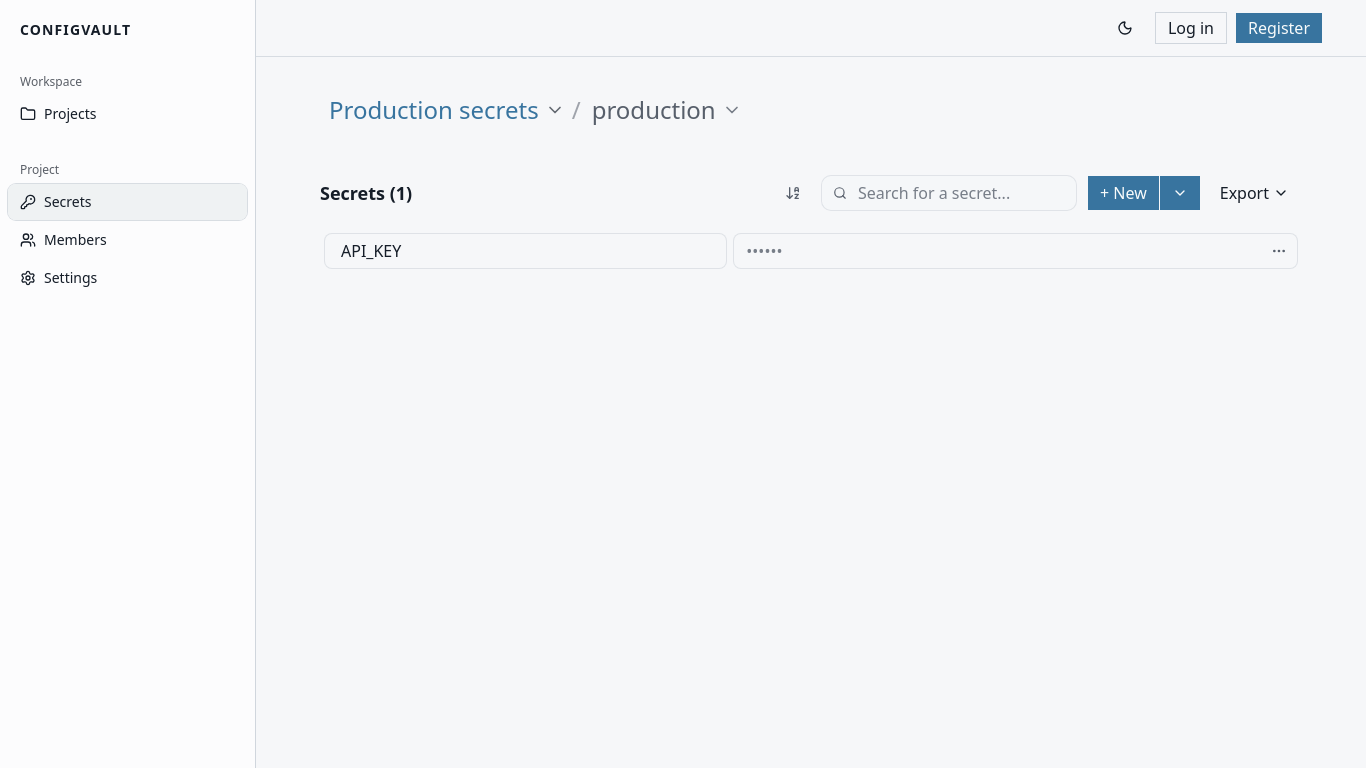
Scenario: SecretsPage › disables restore while the main secrets table has unsaved changes
Replace the text in the field named "Key" with "API_KEY_UPDATED". click: (526, 251)
box: [324,233,727,269]
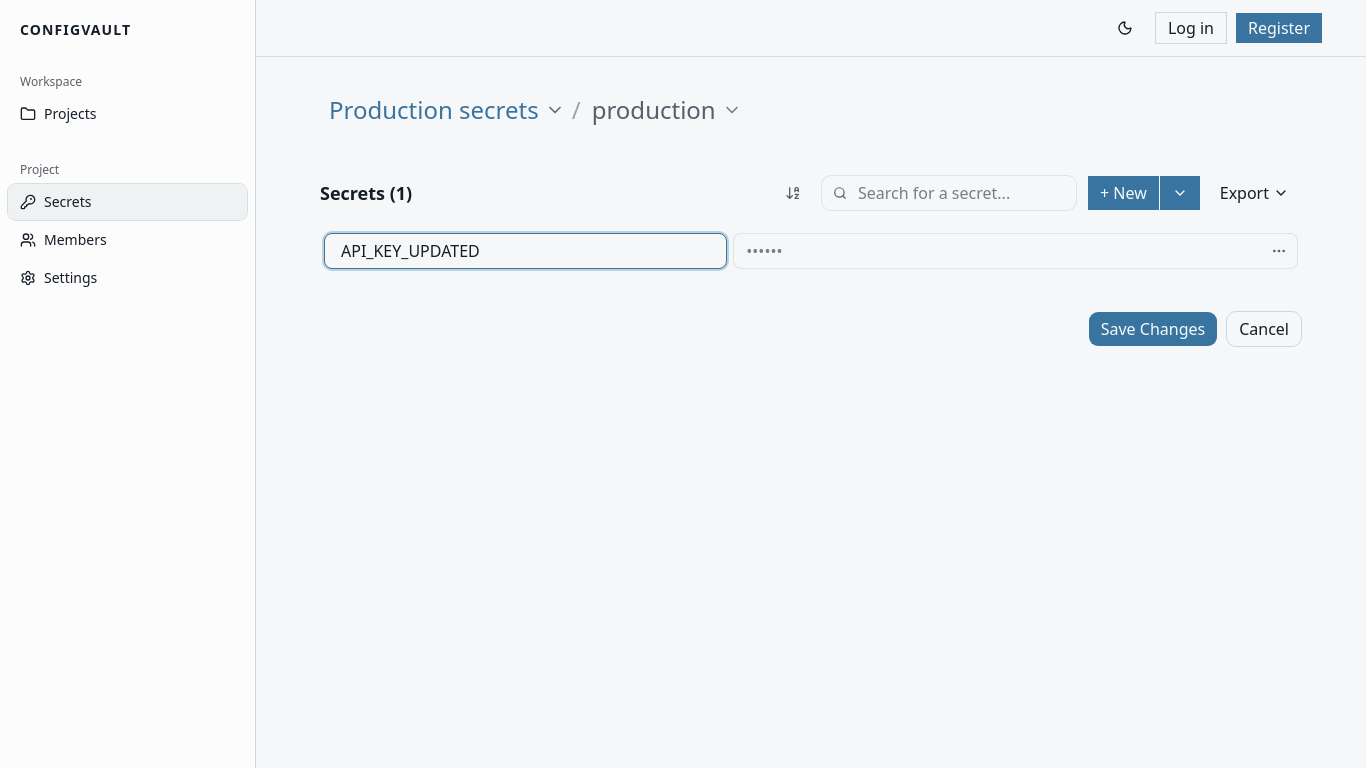
Click the button named "Open actions for API_KEY". click: (1279, 251)
box: [1263,235,1295,267]
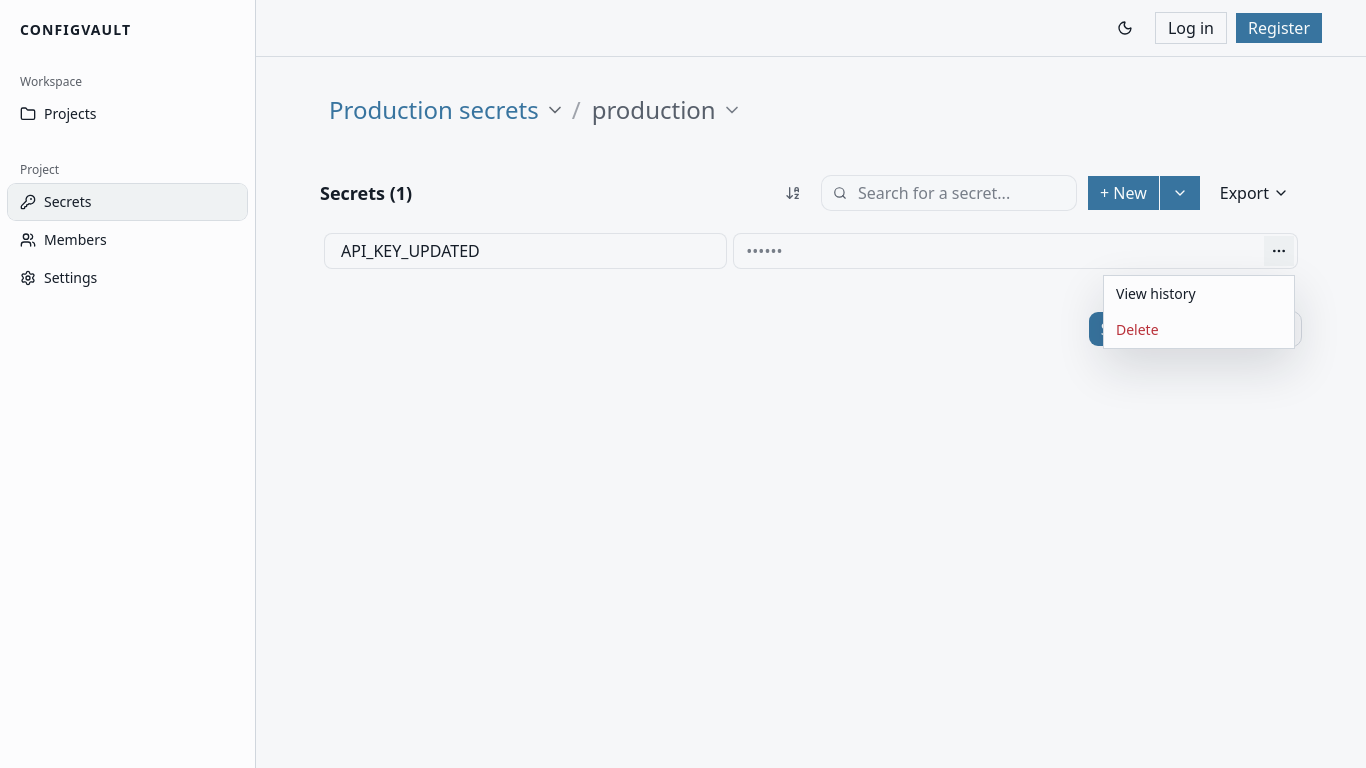
Click the menu item "View history". click: (1156, 294)
box: [1116,284,1196,303]
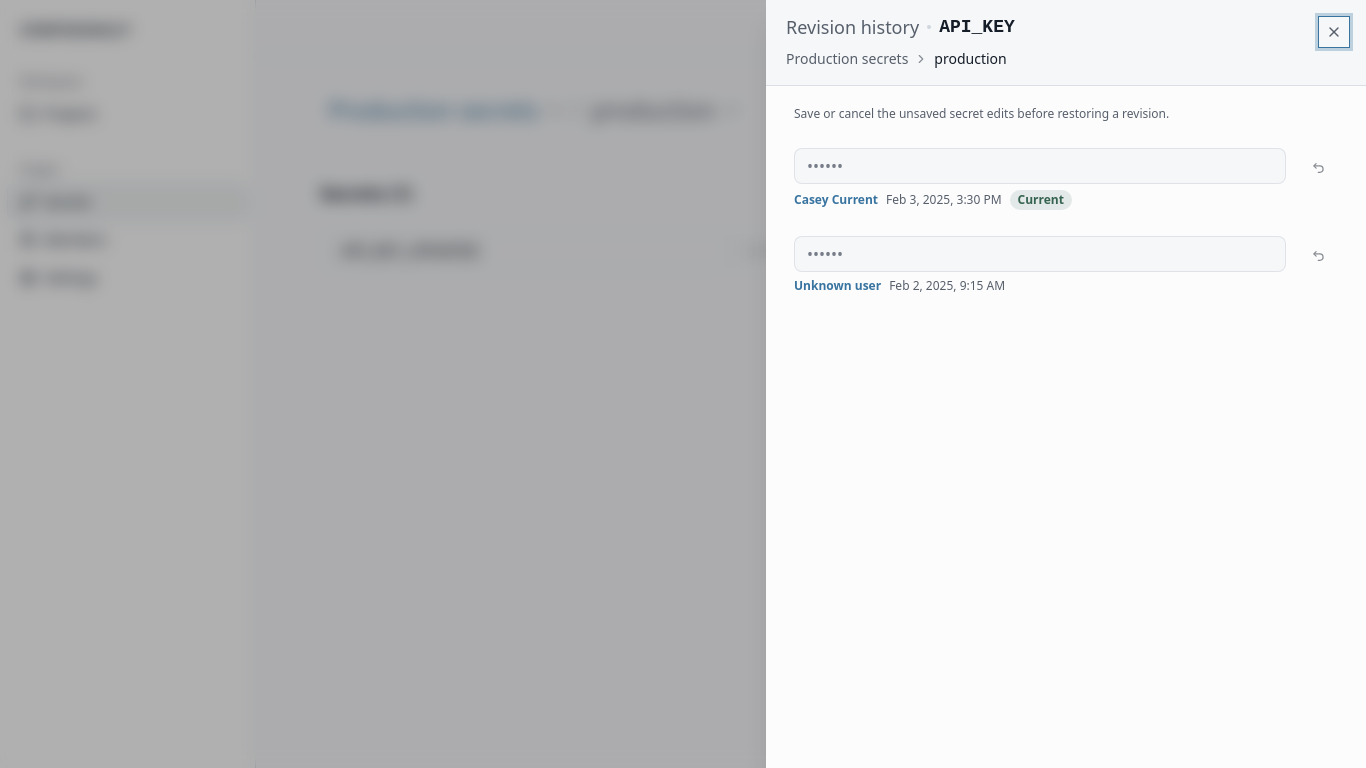
Check: the button named "Restore revision 0" is disabled, box [1298,234,1338,274]
Check: the text "Save or cancel the unsaved secret edits before restoring a revision." is shown, box [794,104,1169,122]
